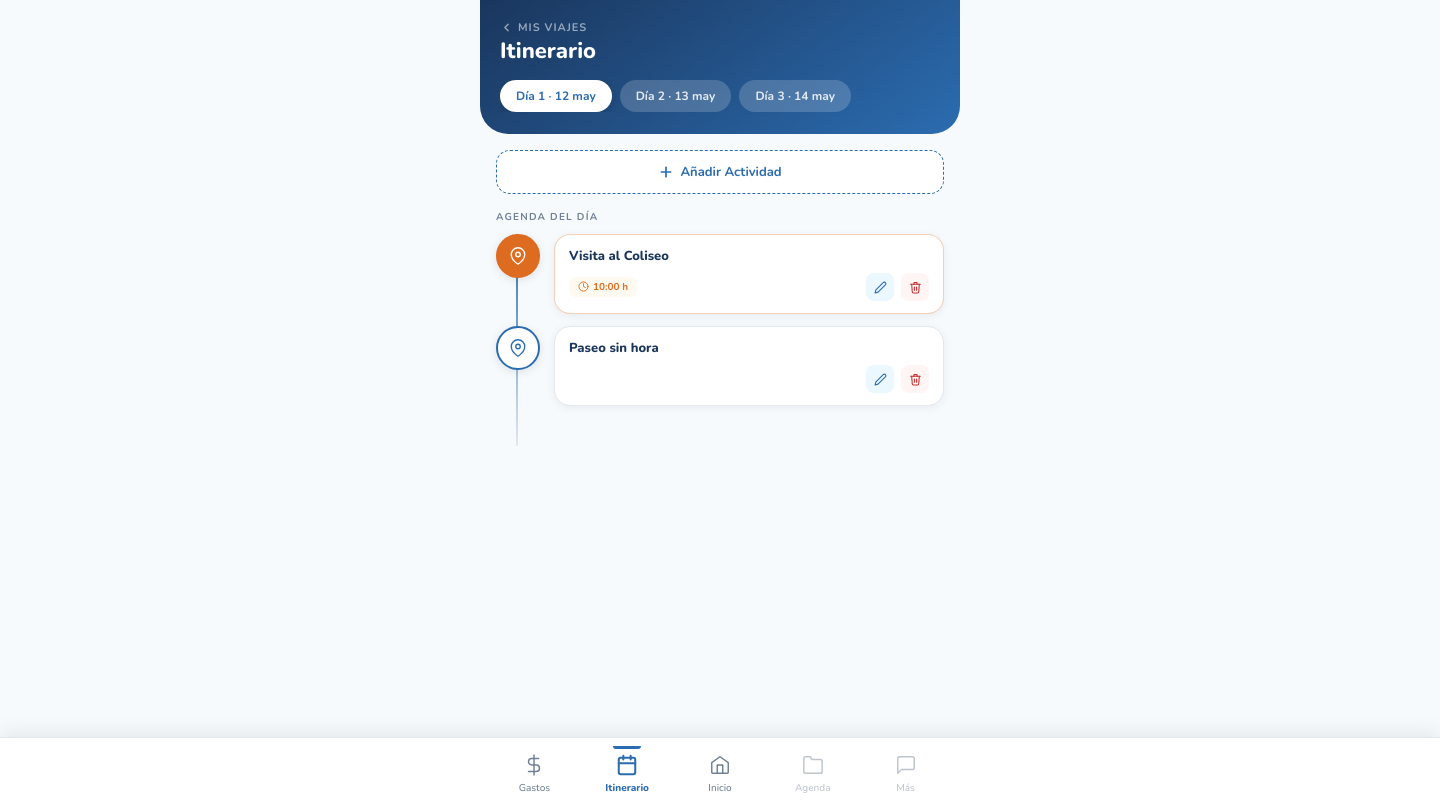
Test case: Itinerario · editar y eliminar actividades › cancelar cierra el diálogo sin eliminar nada
Click the button named "Eliminar Visita al Coliseo" at (915, 287), box [901, 273, 929, 301]
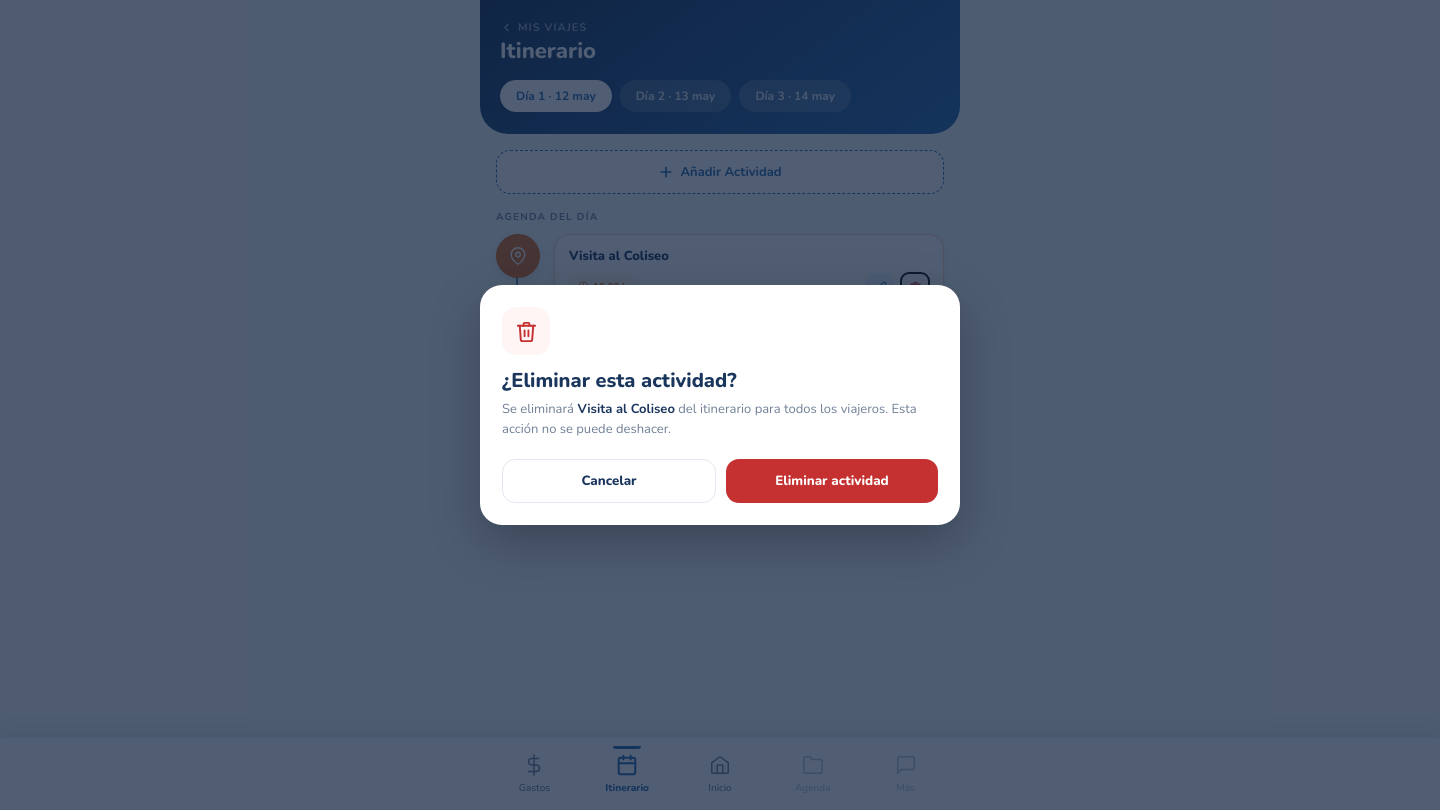
Click the button "Cancelar" at (609, 481), box [502, 459, 716, 503]
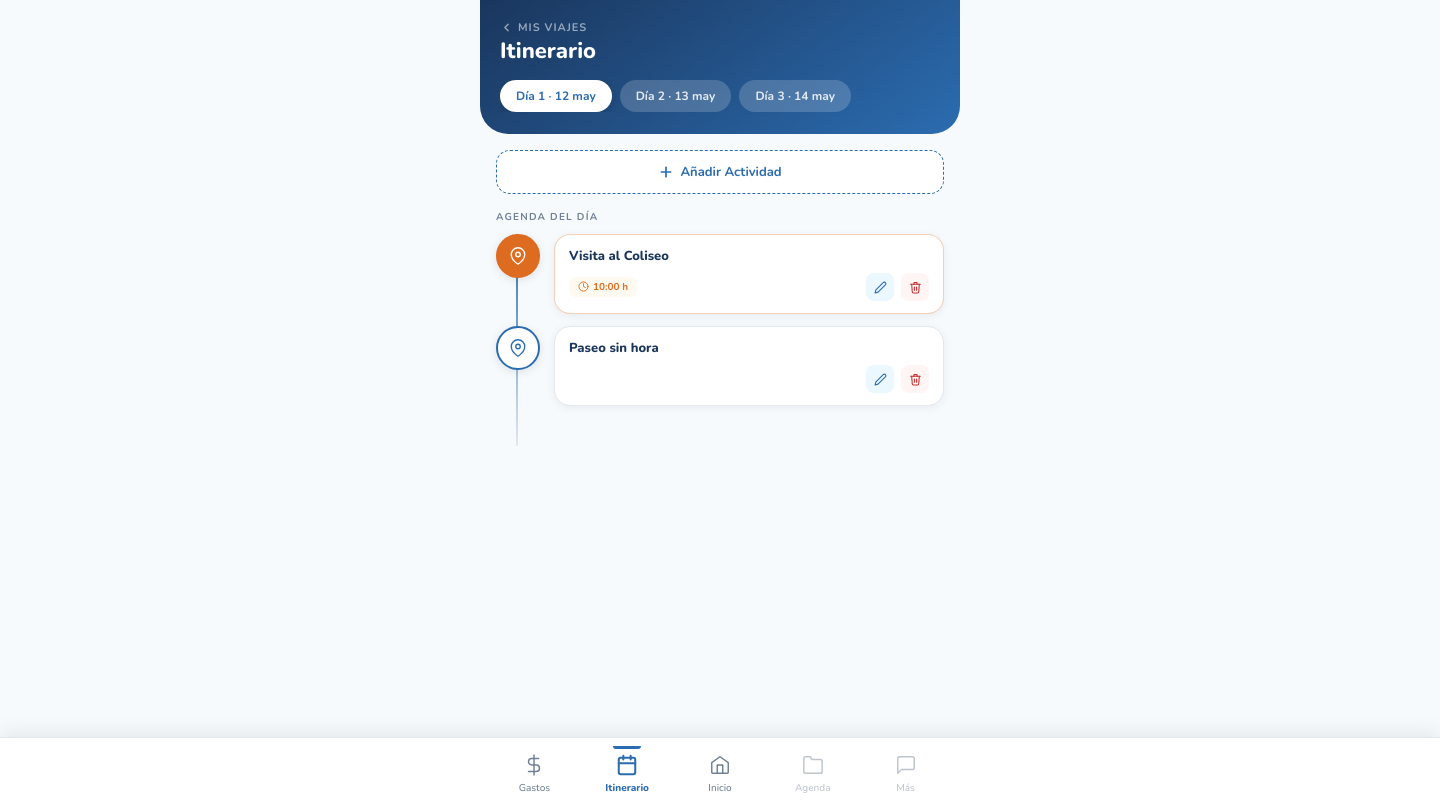
Expected: the text "Visita al Coliseo" is shown, [569, 247, 669, 265]
Now the dialog is gone
